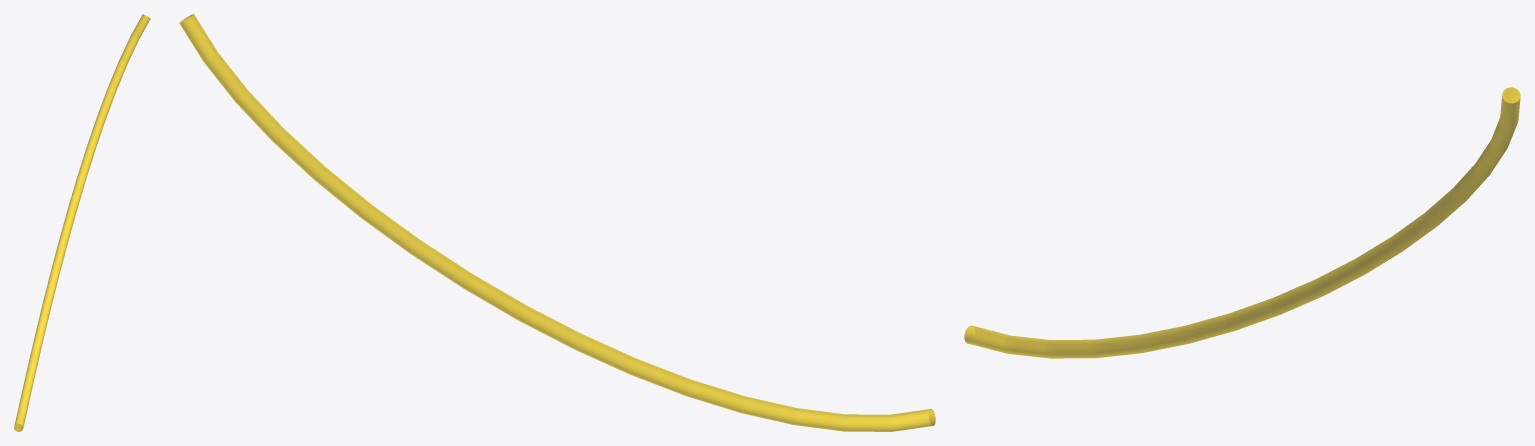
The model's file is Event_419990632_track_93.fbx.
3 renders of one model, left to right at view 1: azimuth 30°, elevation 25°; view 2: azimuth 150°, elevation 25°; view 3: azimuth 270°, elevation 25°, orthographic. The views are drawn at different scales.
Parts seen in each view (by area): view 1: Model; view 2: Model; view 3: Model.
Part boxes in pixels (x1=…): Model: x1=14, y1=14, x2=150, y2=431; Model: x1=179, y1=14, x2=935, y2=431; Model: x1=964, y1=87, x2=1520, y2=358.
Size of the model in its own units: 1.35 by 1.21 by 1.2.
